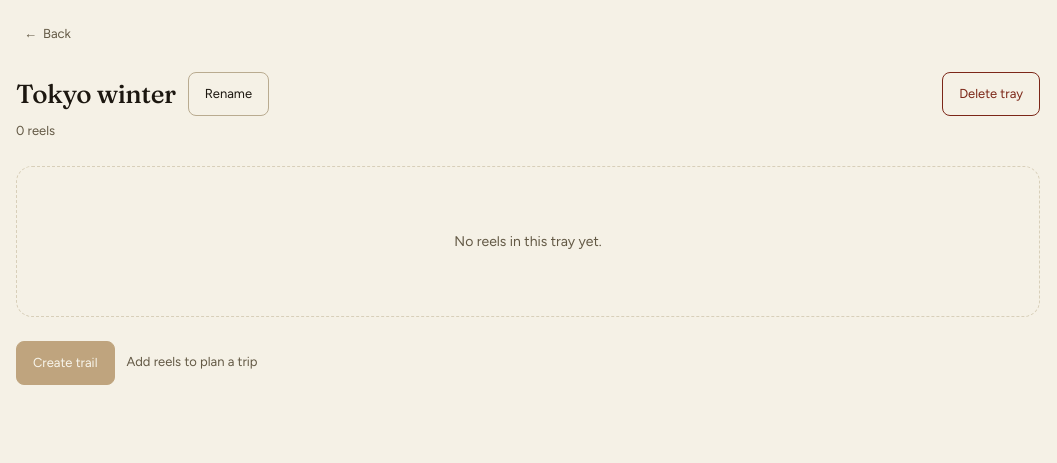
TrayDetail › keeps the delete confirm open with an inline error when a delete rejects
The image size is (1057, 463).
Click the button "Delete tray" at [991, 94], box [942,72,1040,116]
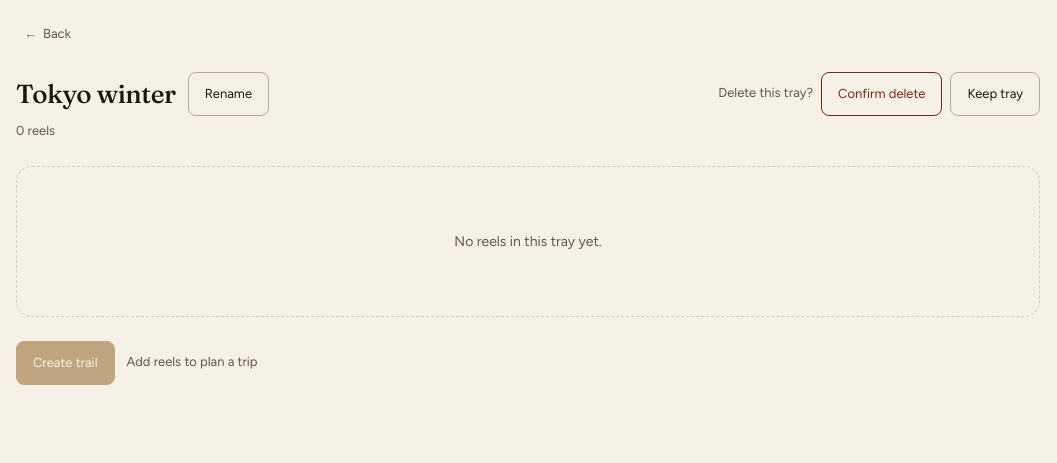
Click the button "Confirm delete" at [882, 94], box [821,72,942,116]
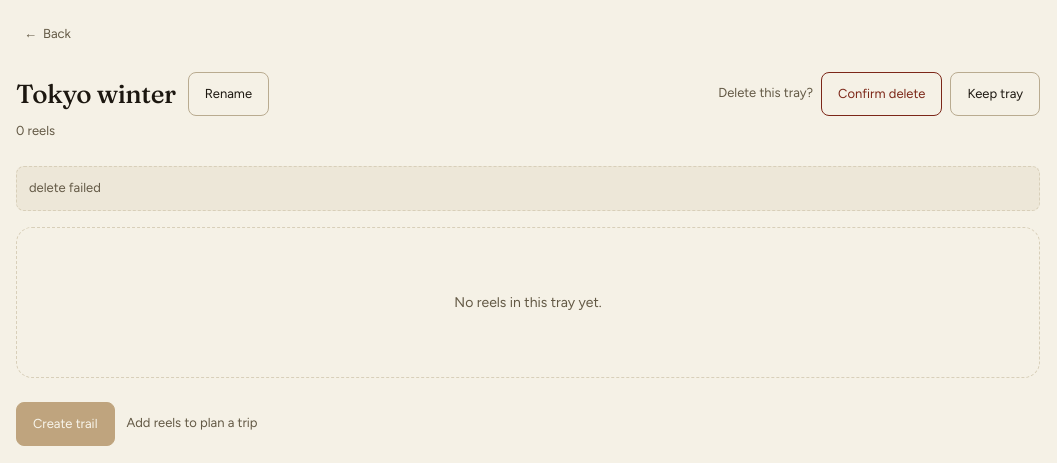
Now the button "Confirm delete" is shown, box [821,72,942,116]
Now the message reads "delete failed", box [29,180,101,196]
